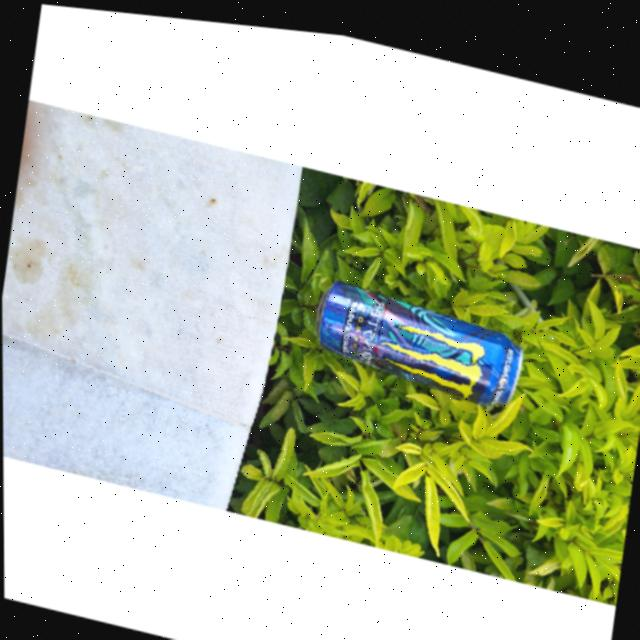Monster LH44: (311, 267, 536, 410)
